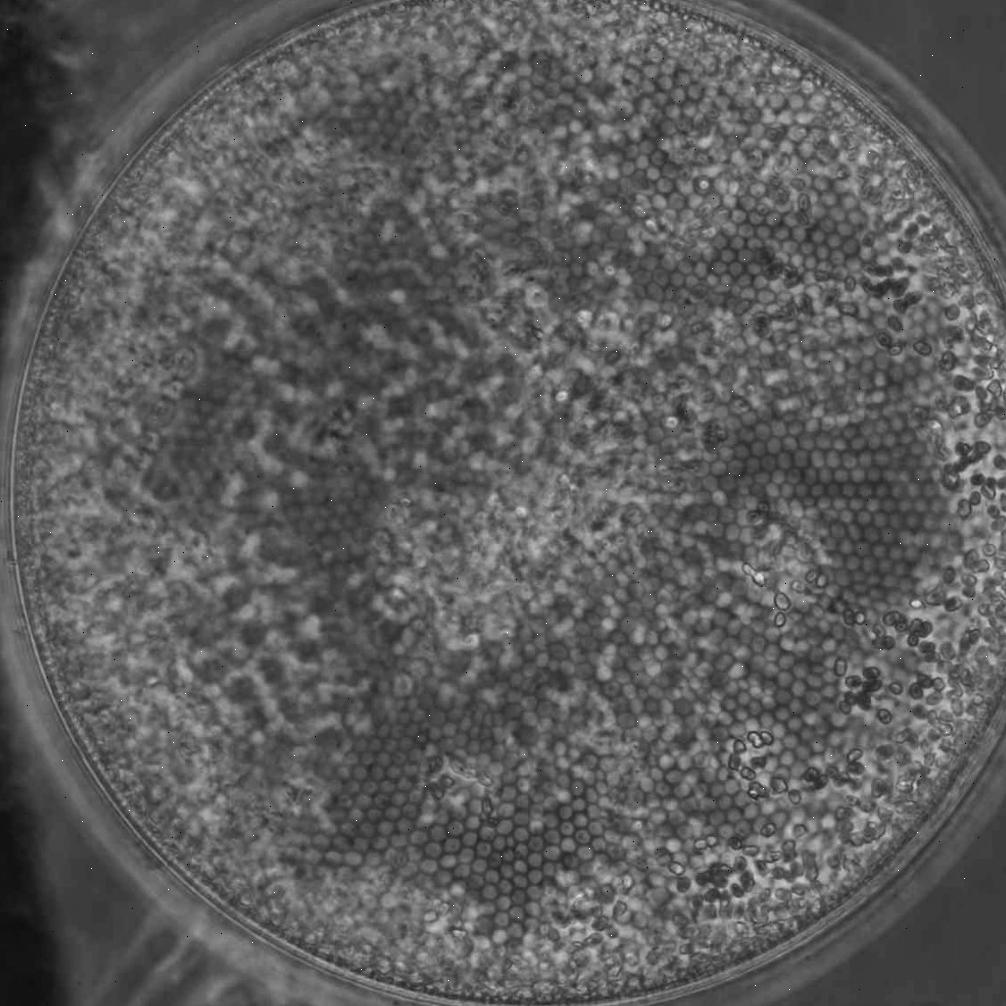coscinodiscus_oculus_iridis: (8, 0, 1006, 1006)
